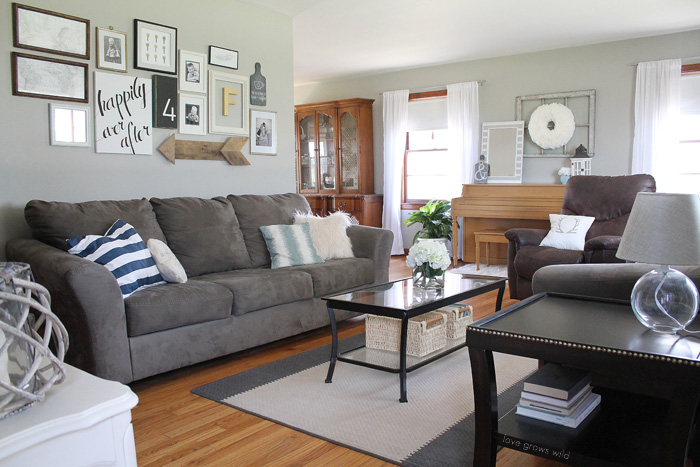chair: (12, 197, 390, 320), (505, 178, 649, 270), (473, 229, 509, 270)
